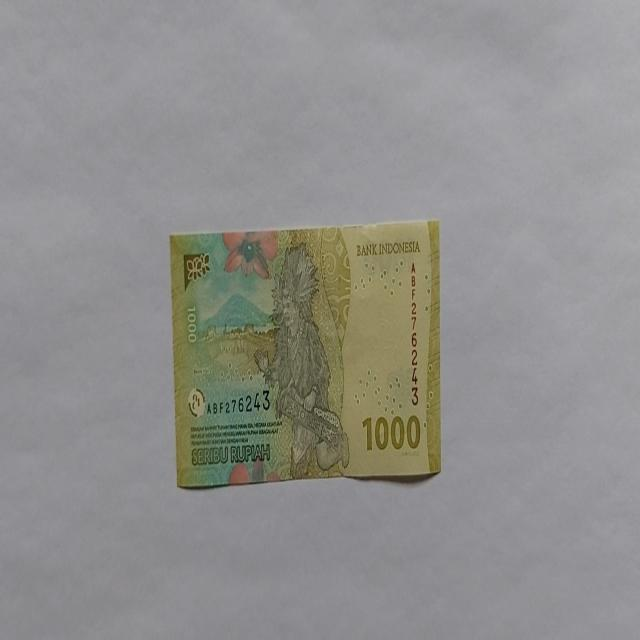seribu rupiah kertas: (168, 219, 442, 489)
